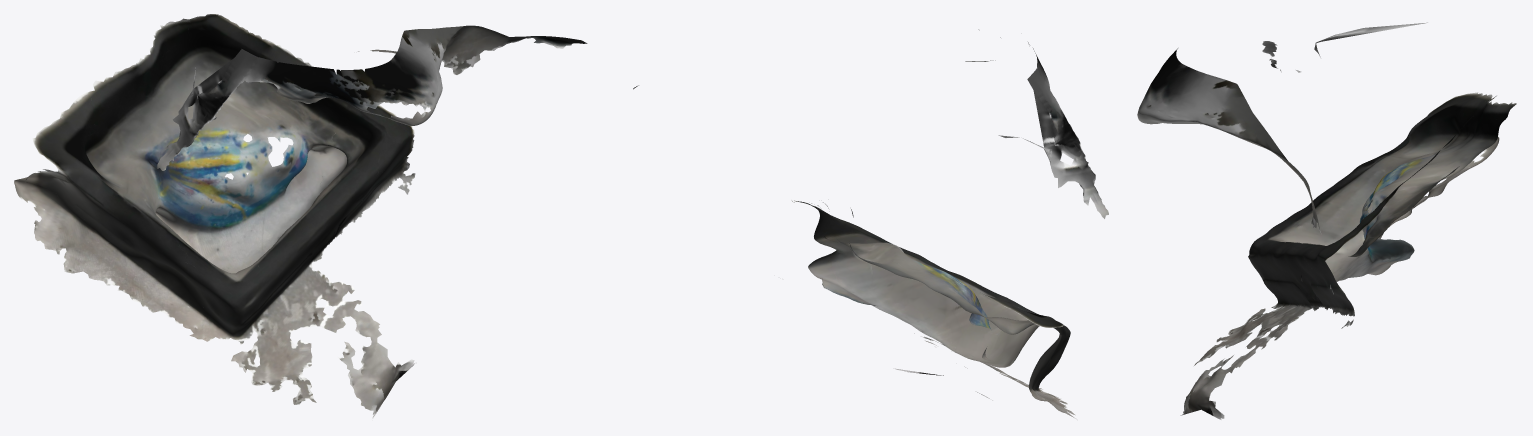
3 views of the same model, side by side, from view 1: azimuth 30°, elevation 25°; view 2: azimuth 150°, elevation 25°; view 3: azimuth 270°, elevation 25° (orthographic). The views are drawn at different scales.
Bounding box in the file's own units: 1.09 × 0.7564 × 0.7199.
1 material, 1 textured.
